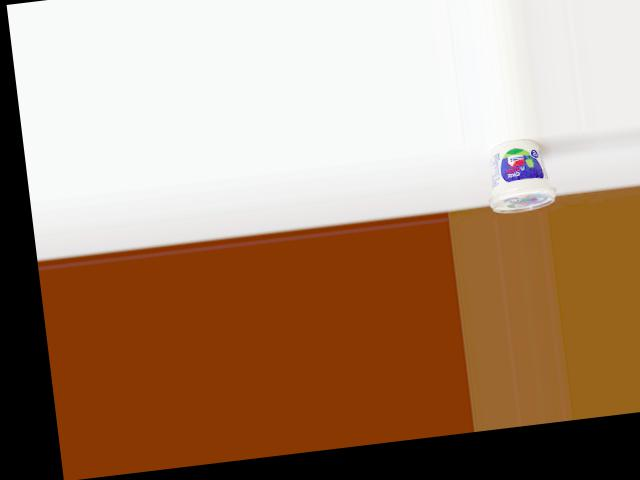cotage: (480, 136, 557, 215)
